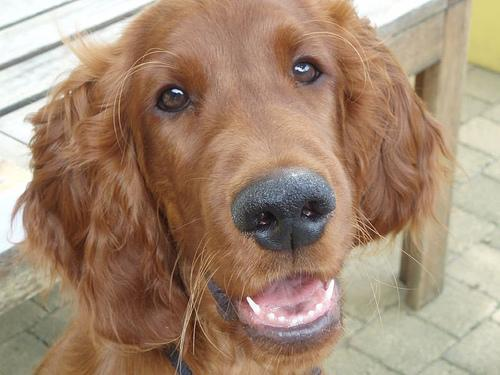Irish_setter: (7, 0, 468, 374)
